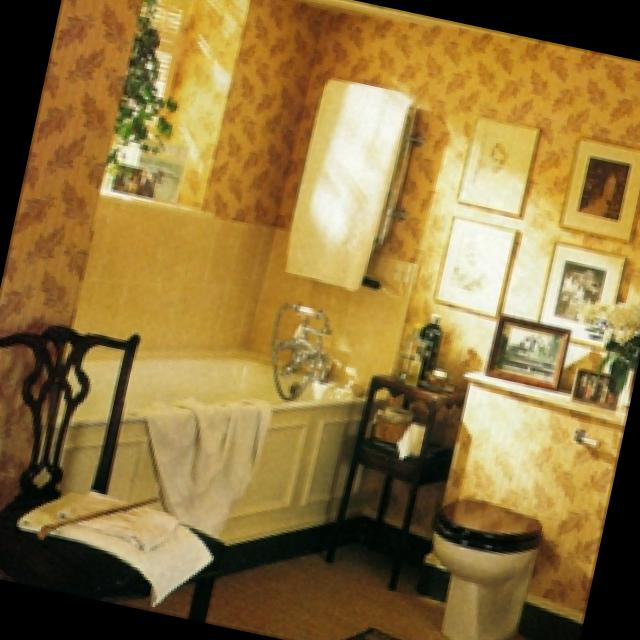2001: (99, 0, 186, 181)
bath occluded: (268, 298, 336, 395)
bathtub: (49, 344, 381, 545)
bottle crop: (414, 310, 442, 372), (396, 321, 418, 376)
bouquet: (578, 298, 640, 391)
chair -occluded-: (0, 320, 222, 614)
floor -X: (116, 514, 462, 640)
painting crop: (533, 239, 620, 342), (559, 137, 640, 237), (433, 215, 516, 311), (457, 115, 535, 211)
picture occluded: (483, 309, 564, 385), (570, 367, 615, 405)
plant -x: (100, 0, 178, 192)
rug -partially obscured-: (336, 625, 408, 640)
small table part: (324, 366, 464, 586)
toilet bowl: (426, 368, 622, 639), (431, 495, 538, 640)
toilet paper: (372, 405, 419, 451)
towel basket: (282, 76, 410, 284), (14, 483, 211, 603), (128, 393, 265, 535), (49, 485, 174, 548)
